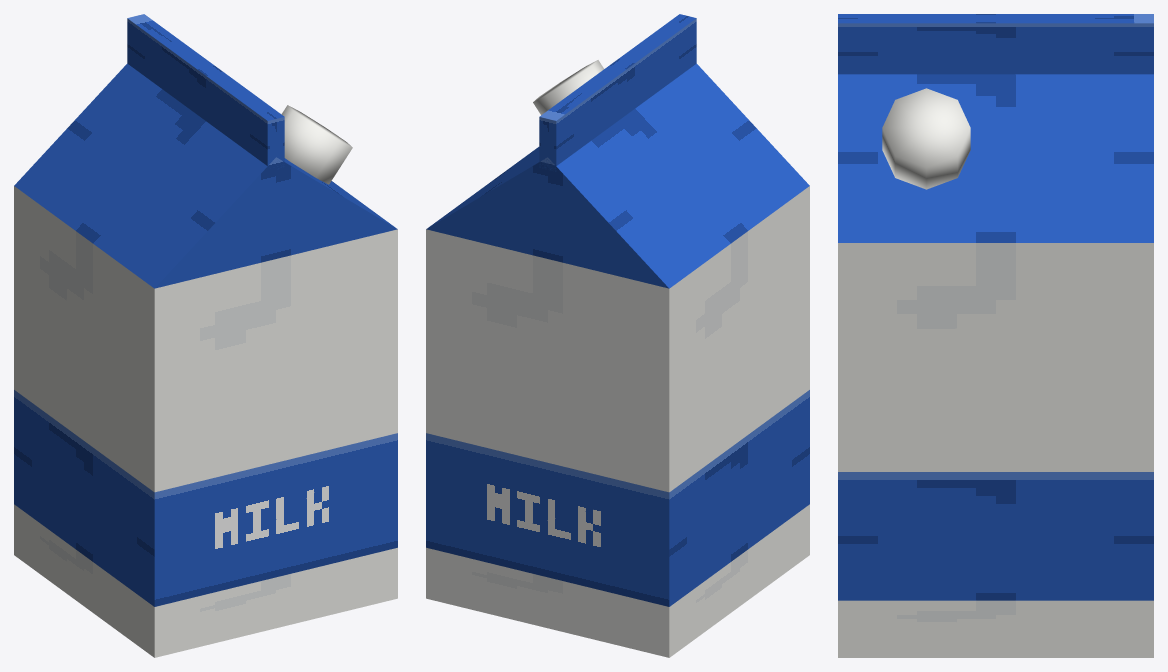
The model's file is produce-milk.glb.
The picture shows the model from 3 angles, left to right: view 1: azimuth 30°, elevation 25°; view 2: azimuth 150°, elevation 25°; view 3: azimuth 270°, elevation 25°; orthographic projection. The views are drawn at different scales.
Parts seen in each view (by area): view 1: produce.milk; view 2: produce.milk; view 3: produce.milk.
Part boxes in pixels (bbox=[...]): produce.milk: bbox=[14, 14, 397, 657]; produce.milk: bbox=[426, 14, 809, 657]; produce.milk: bbox=[838, 14, 1153, 657].
Bounding box in the file's own units: 0.8165 × 1.63 × 0.8165.
4 materials, 3 textured.
